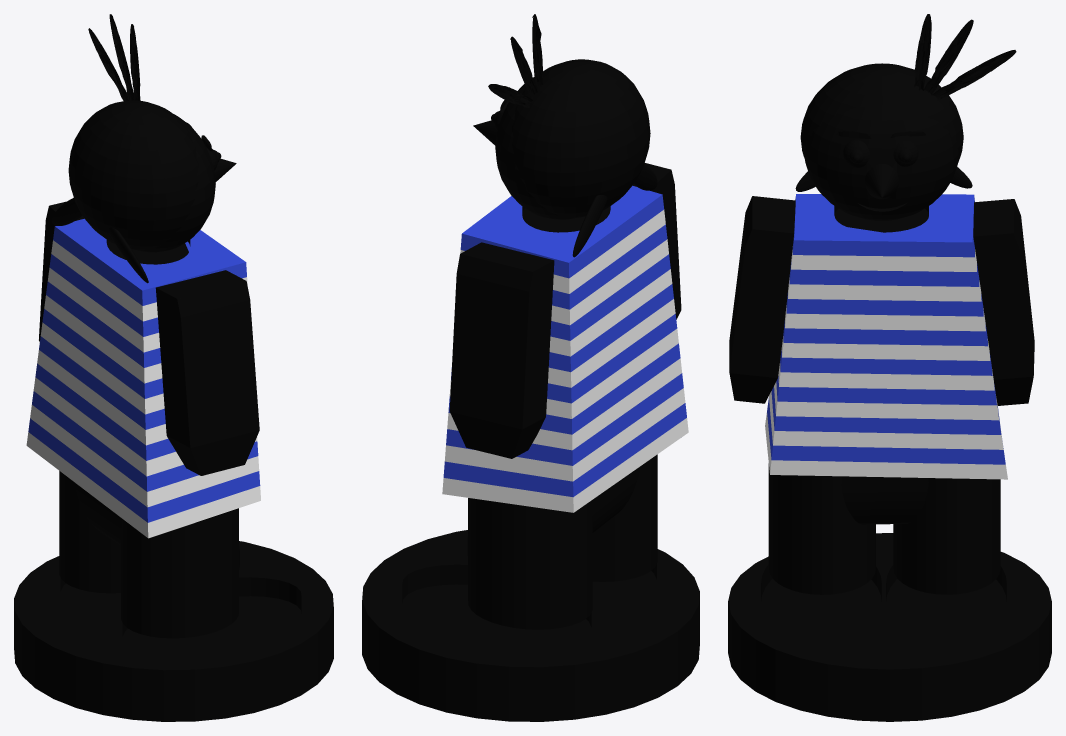
Rendered from Попугай.fbx.
3 renders of one model, left to right at view 1: azimuth 30°, elevation 25°; view 2: azimuth 150°, elevation 25°; view 3: azimuth 270°, elevation 25°, orthographic. The views are drawn at different scales.
Parts seen in each view (by area): view 1: Cube.012; view 2: Cube.012; view 3: Cube.012.
Boxes of the visible parts, <box> form: Cube.012: <box>14,14,333,721</box>; Cube.012: <box>362,14,699,721</box>; Cube.012: <box>728,14,1051,721</box>.
Bounding box in the file's own units: 800 × 1713 × 800.
